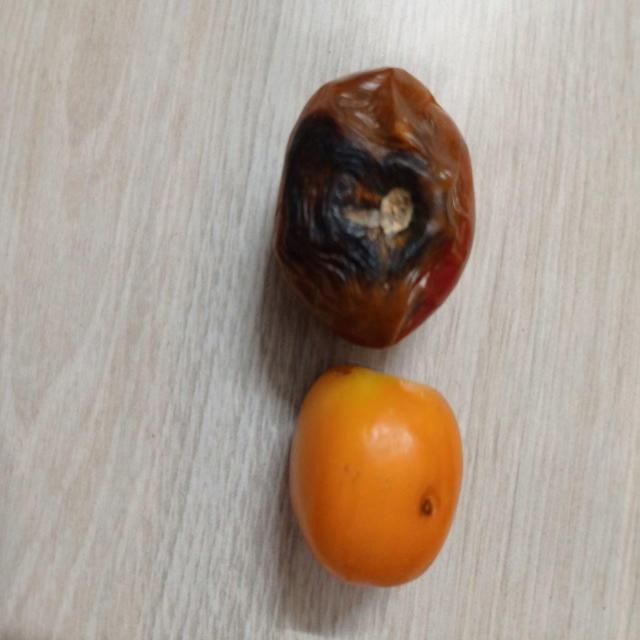Rotten: (274, 62, 474, 349)
